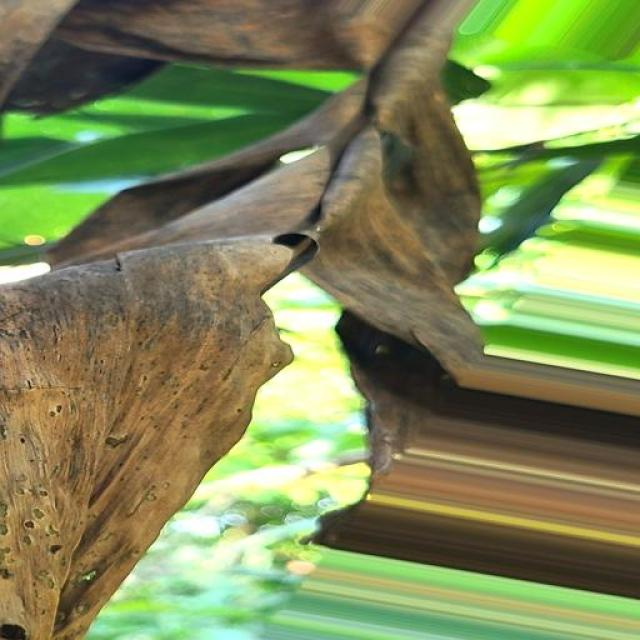Bract_mosaic_virus: (2, 0, 490, 388), (1, 195, 339, 640)
